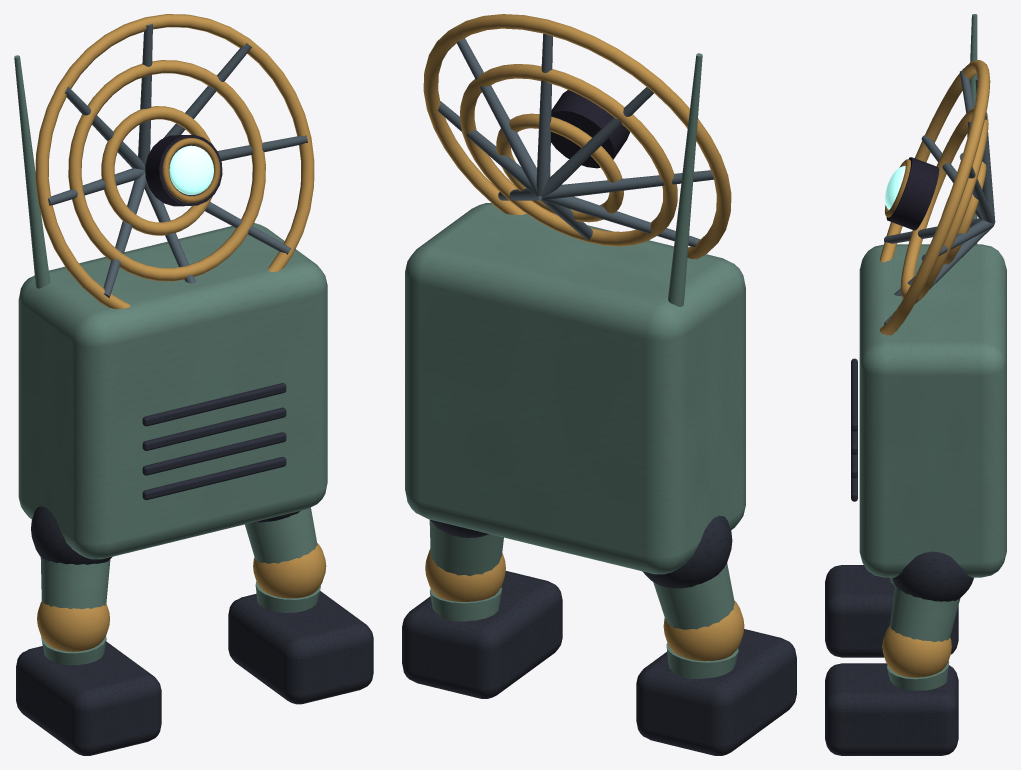
File: relay.glb
3 views of the same model, side by side, from view 1: azimuth 30°, elevation 25°; view 2: azimuth 150°, elevation 25°; view 3: azimuth 270°, elevation 25° (orthographic). The views are drawn at different scales.
Parts seen in each view (by area): view 1: Receiver cabinet, Sole (×2), Parabolic rib (×3), Dish spoke (×8), Speaker slot (×4), Upper link (×2), Elbow bearing (×2), Whip aerial, Forearm sleeve (×2), Shoulder bearing, Barrel, Optical glass (+1 smaller); view 2: Receiver cabinet, Sole (×2), Parabolic rib (×3), Dish spoke (×6), Upper link (×2), Elbow bearing (×2), Whip aerial, Forearm sleeve (×2), Shoulder bearing, Barrel; view 3: Receiver cabinet, Sole (×2), Parabolic rib (×3), Dish spoke (×7), Shoulder bearing, Upper link, Elbow bearing, Barrel, Forearm sleeve, Whip aerial, Speaker slot, Optical glass (+1 smaller).
Part boxes in pixels (x1,y1,x2,y2): Receiver cabinet: [18, 223, 327, 559]; Sole (×2): [16, 591, 373, 755]; Parabolic rib (×3): [35, 14, 314, 308]; Dish spoke (×8): [48, 24, 307, 297]; Speaker slot (×4): [142, 383, 286, 500]; Upper link (×2): [40, 507, 317, 609]; Elbow bearing (×2): [37, 543, 326, 651]; Whip aerial: [14, 55, 50, 288]; Forearm sleeve (×2): [41, 581, 320, 665]; Shoulder bearing: [31, 506, 112, 564]; Barrel: [145, 134, 222, 206]; Optical glass: [169, 145, 213, 194]; Receiver cabinet: [405, 203, 745, 574]; Sole (×2): [402, 571, 796, 755]; Parabolic rib (×3): [423, 14, 731, 259]; Dish spoke (×6): [438, 33, 713, 247]; Upper link (×2): [429, 520, 734, 629]; Elbow bearing (×2): [425, 549, 744, 661]; Whip aerial: [668, 53, 702, 306]; Forearm sleeve (×2): [429, 587, 738, 678]; Shoulder bearing: [642, 515, 732, 588]; Barrel: [551, 90, 629, 168]; Receiver cabinet: [859, 244, 1006, 577]; Sole (×2): [825, 565, 958, 755]; Parabolic rib (×3): [879, 60, 990, 335]; Dish spoke (×7): [884, 70, 995, 325]; Shoulder bearing: [892, 551, 973, 601]; Upper link: [890, 585, 960, 642]; Elbow bearing: [882, 625, 951, 677]; Barrel: [886, 157, 939, 230]; Forearm sleeve: [887, 661, 949, 690]; Whip aerial: [967, 14, 977, 245]; Speaker slot: [851, 358, 857, 431]; Optical glass: [885, 166, 905, 209].
Bounding box in the file's own units: 0.716 × 1.48 × 0.395.
8 materials, 7 textured.
